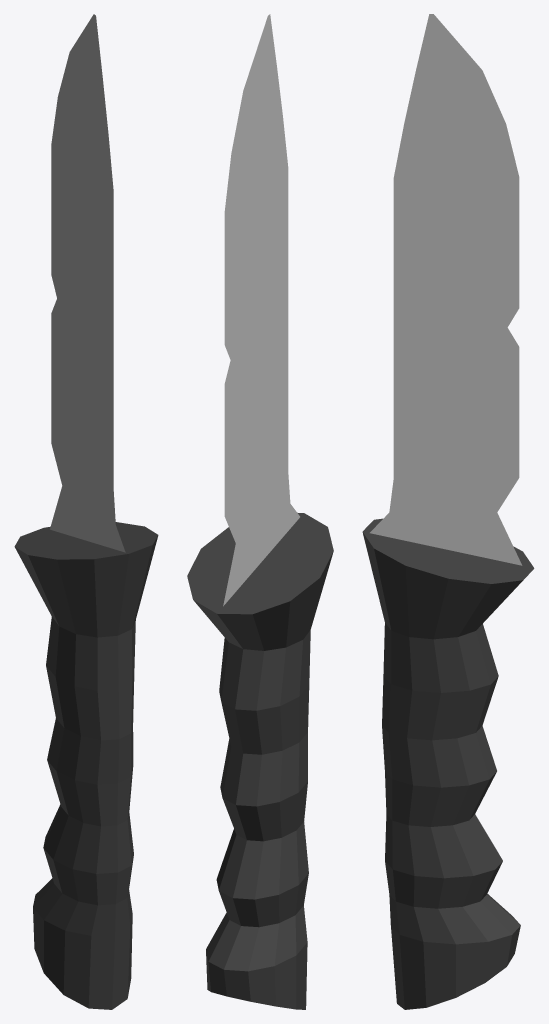
File: knife.gltf
3 renders of one model, left to right at view 1: azimuth 30°, elevation 25°; view 2: azimuth 150°, elevation 25°; view 3: azimuth 270°, elevation 25°, orthographic.
Visible parts, largest first — view 1: plane; view 2: plane; view 3: plane.
Boxes of the visible parts, bbox=[...] form: plane: bbox=[14, 14, 158, 1009]; plane: bbox=[187, 14, 333, 1009]; plane: bbox=[362, 14, 534, 1009].
Size of the model in its own units: 0.1437 by 1.15 by 0.1819.
Materials: 1 (1 with a texture image).
